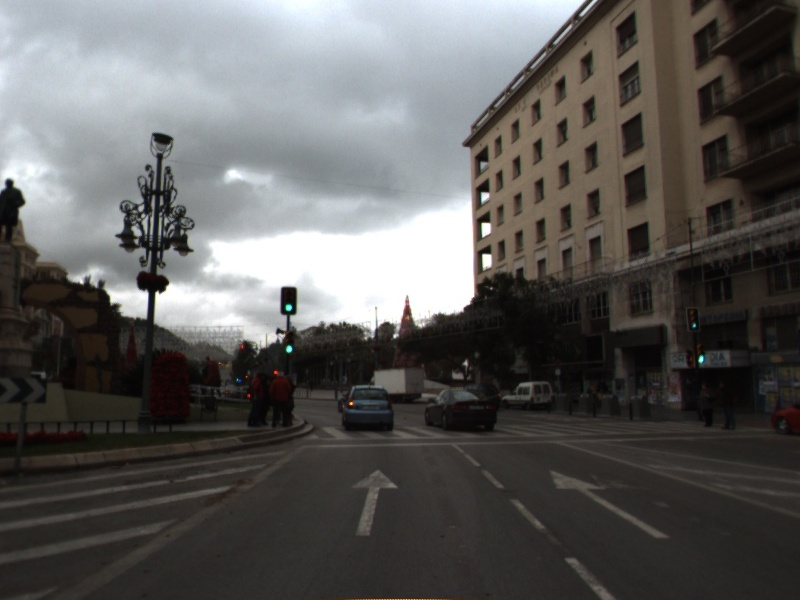STRAIGHT: (548, 468, 673, 540), (349, 467, 401, 538)
